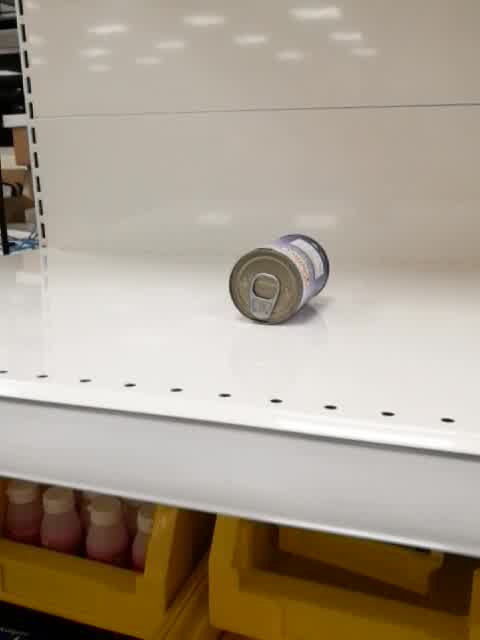sardine: (229, 233, 331, 326)
